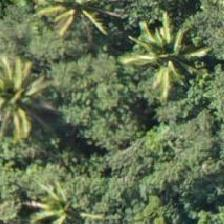coconut_tree: (132, 10, 222, 100), (16, 167, 106, 223), (0, 45, 51, 135), (35, 0, 125, 45)
